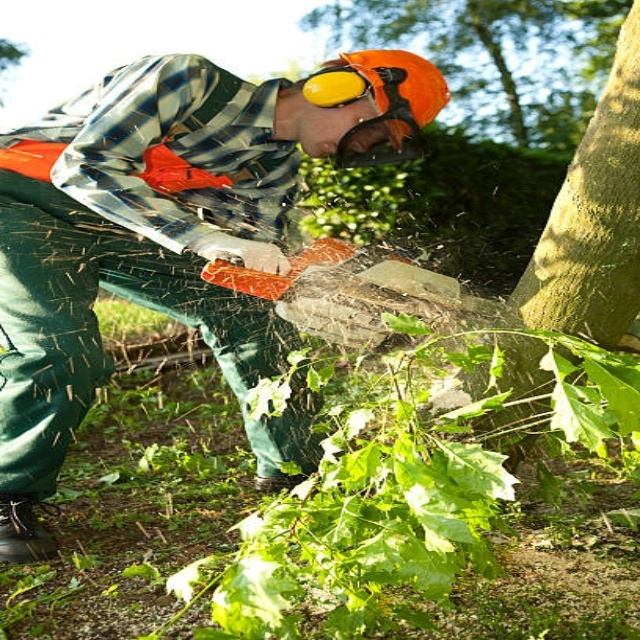Guantes: (195, 233, 293, 279)
Sin_gafas: (358, 118, 364, 123)
